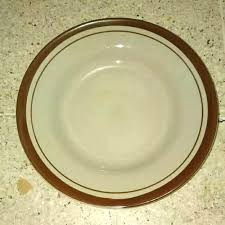piring: (15, 18, 218, 208)
